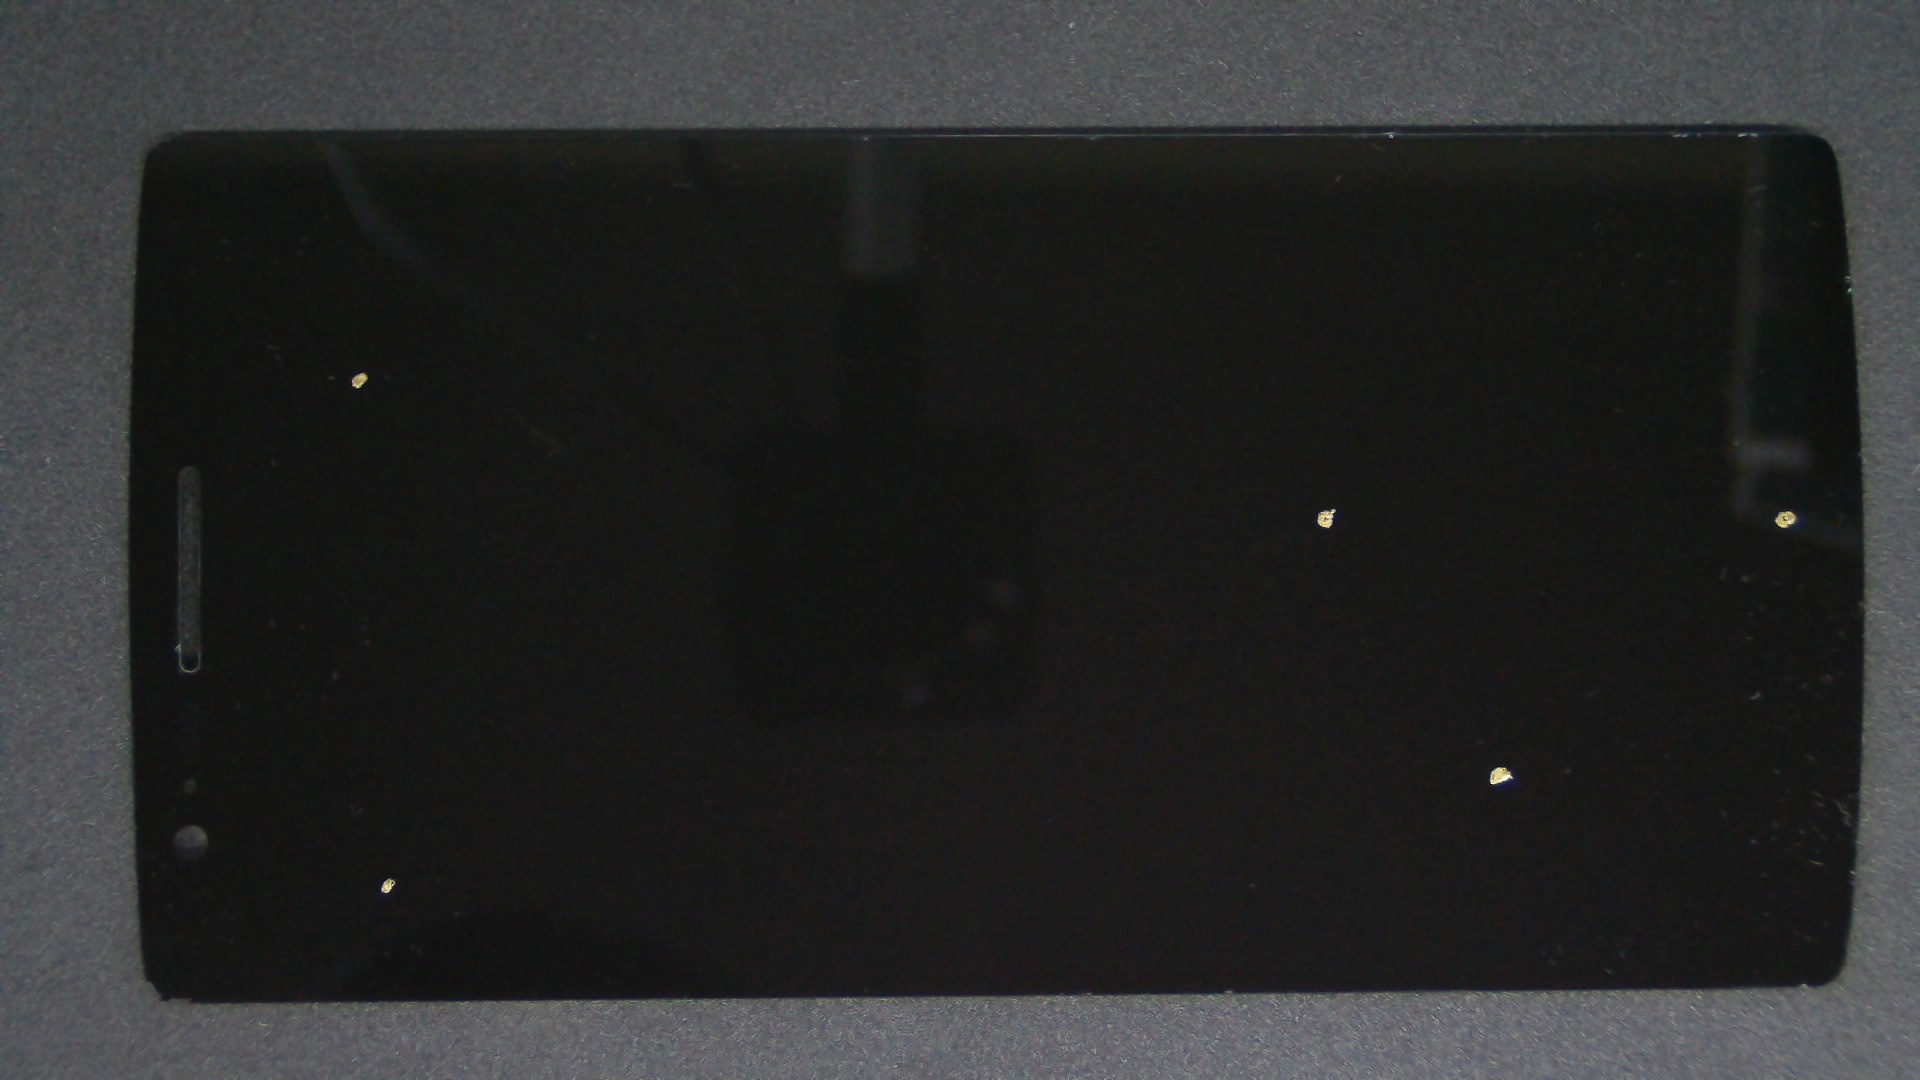oil: (753, 381, 1920, 1080), (665, 253, 1920, 761), (895, 255, 1920, 764), (196, 436, 582, 1080), (186, 181, 537, 560)
